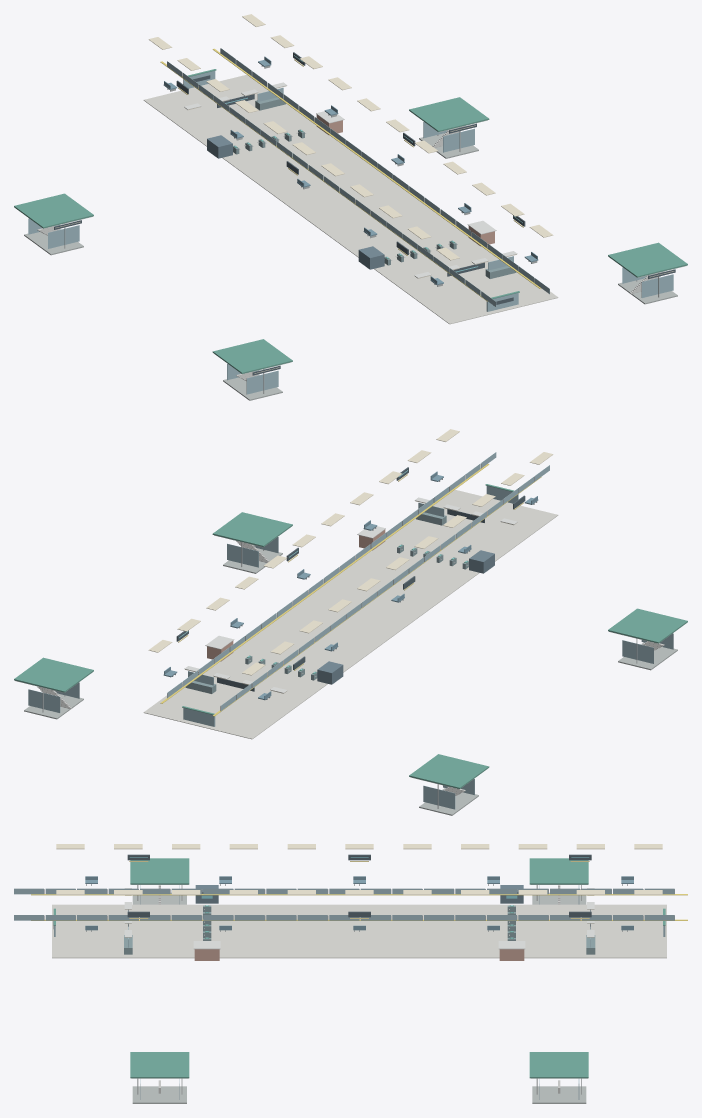
The picture shows the model from 3 angles, top to bottom: view 1: azimuth 30°, elevation 25°; view 2: azimuth 150°, elevation 25°; view 3: azimuth 270°, elevation 25°; orthographic projection.
Parts seen in each view (by area): view 1: Station interior and street-level illustrative furniture; view 2: Station interior and street-level illustrative furniture; view 3: Station interior and street-level illustrative furniture.
Part boxes in pixels (x1,y1,x2,y2): Station interior and street-level illustrative furniture: (14, 14, 687, 400); Station interior and street-level illustrative furniture: (14, 429, 687, 815); Station interior and street-level illustrative furniture: (14, 844, 687, 1103).
Bounding box in the file's own units: 98.4 × 27.2 × 128.
